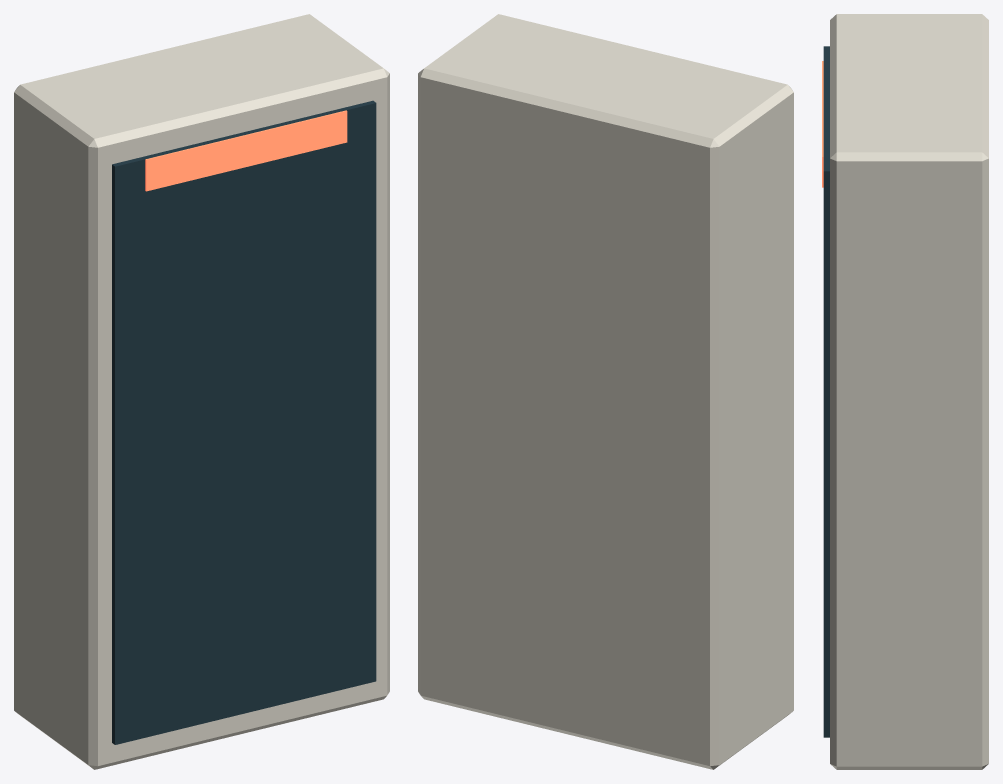
Rendered from emergency_locker.glb.
3 renders of one model, left to right at view 1: azimuth 30°, elevation 25°; view 2: azimuth 150°, elevation 25°; view 3: azimuth 270°, elevation 25°, orthographic. The views are drawn at different scales.
Visible parts, largest first — view 1: emergency_locker; view 2: emergency_locker; view 3: emergency_locker.
Boxes of the visible parts, x1=… form: emergency_locker: x1=14, y1=14, x2=389, y2=769; emergency_locker: x1=418, y1=14, x2=793, y2=769; emergency_locker: x1=822, y1=14, x2=988, y2=769.
Size of the model in its own units: 0.6 by 1.2 by 0.294.
